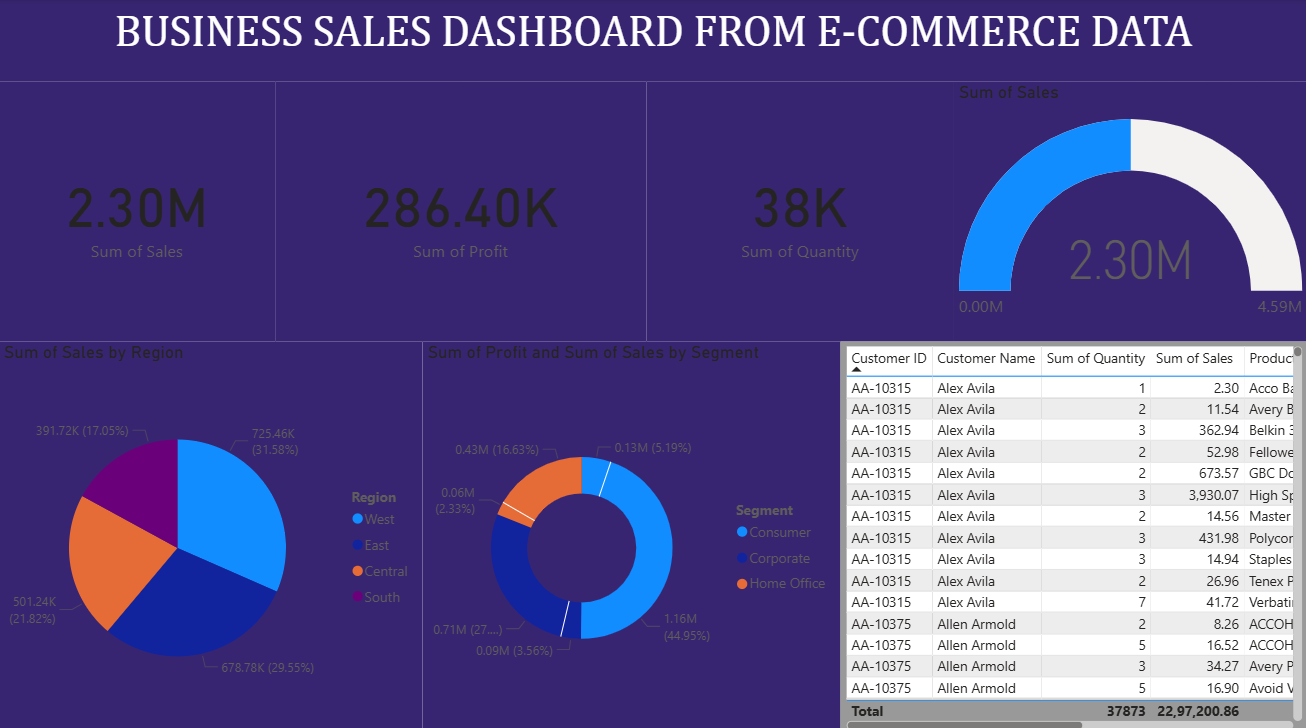

This screenshot's page, from the dashboard's own definition file:
{"tool":"powerbi","page":{"name":"Page 1","canvas":[1280,720],"ordinal":0},"visuals":[{"type":"card","fields":{"Values":["Sum(Orders.Quantity)"]},"box":[633.4,80.7,300.8,254.3],"z":0},{"type":"card","fields":{"Values":["Sum(Orders.Profit)"]},"box":[270.2,80.7,363.2,254.3],"z":1000},{"type":"card","fields":{"Values":["Sum(Orders.Sales)"]},"box":[0,80.7,270.2,254.3],"z":2000},{"type":"gauge","fields":{"Y":["Sum(Orders.Sales)"]},"box":[934.2,80.7,346.1,254.3],"z":3000},{"type":"pieChart","fields":{"Y":["Sum(Orders.Sales)"],"Category":["Orders.Region"]},"box":[0,335.1,414.5,385.2],"z":4000},{"type":"donutChart","fields":{"Y":["Sum(Orders.Profit)","Sum(Orders.Sales)"],"Category":["Orders.Segment"]},"box":[414.5,335.1,408.4,385.2],"z":5000},{"type":"tableEx","fields":{"Values":["Orders.Customer ID","Orders.Customer Name","Sum(Orders.Quantity)","Sum(Orders.Sales)","Orders.Product Name"]},"box":[823,335.1,457.3,385.2],"z":6000},{"type":"textbox","box":[0,0,1280.3,80.7],"z":7000}]}

Visuals, with their boxes in screenshot pixels (x1, y1, x2, y2), scaled from the page's 1280x720 canvas onto the 1306x728 screenshot:
card - Sum(Orders.Quantity): BBox(646, 82, 953, 339)
card - Sum(Orders.Profit): BBox(276, 82, 646, 339)
card - Sum(Orders.Sales): BBox(0, 82, 276, 339)
gauge - Sum(Orders.Sales): BBox(953, 82, 1305, 339)
pieChart - Sum(Orders.Sales) x Orders.Region: BBox(0, 339, 423, 727)
donutChart - Sum(Orders.Profit) x Sum(Orders.Sales): BBox(423, 339, 840, 727)
tableEx - Orders.Customer ID x Orders.Customer Name: BBox(840, 339, 1305, 727)
textbox: BBox(0, 0, 1305, 82)
